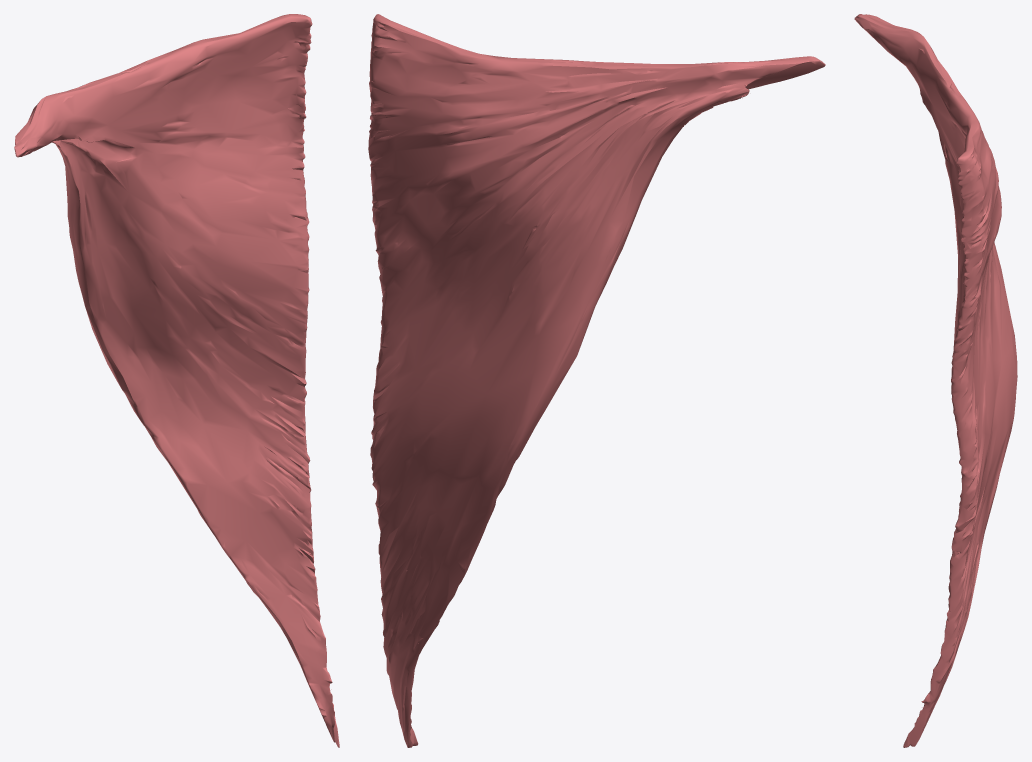
The picture shows the model from 3 angles, left to right: view 1: azimuth 30°, elevation 25°; view 2: azimuth 150°, elevation 25°; view 3: azimuth 270°, elevation 25°; orthographic projection. The views are drawn at different scales.
Visible parts, largest first — view 1: FJ1520; view 2: FJ1520; view 3: FJ1520.
Boxes of the visible parts, left/top/right/bottom form: FJ1520: left=14, top=14, right=339, bottom=747; FJ1520: left=368, top=14, right=825, bottom=747; FJ1520: left=854, top=14, right=1017, bottom=747.
Size of the model in its own units: 0.151 by 0.2874 by 0.0711.
